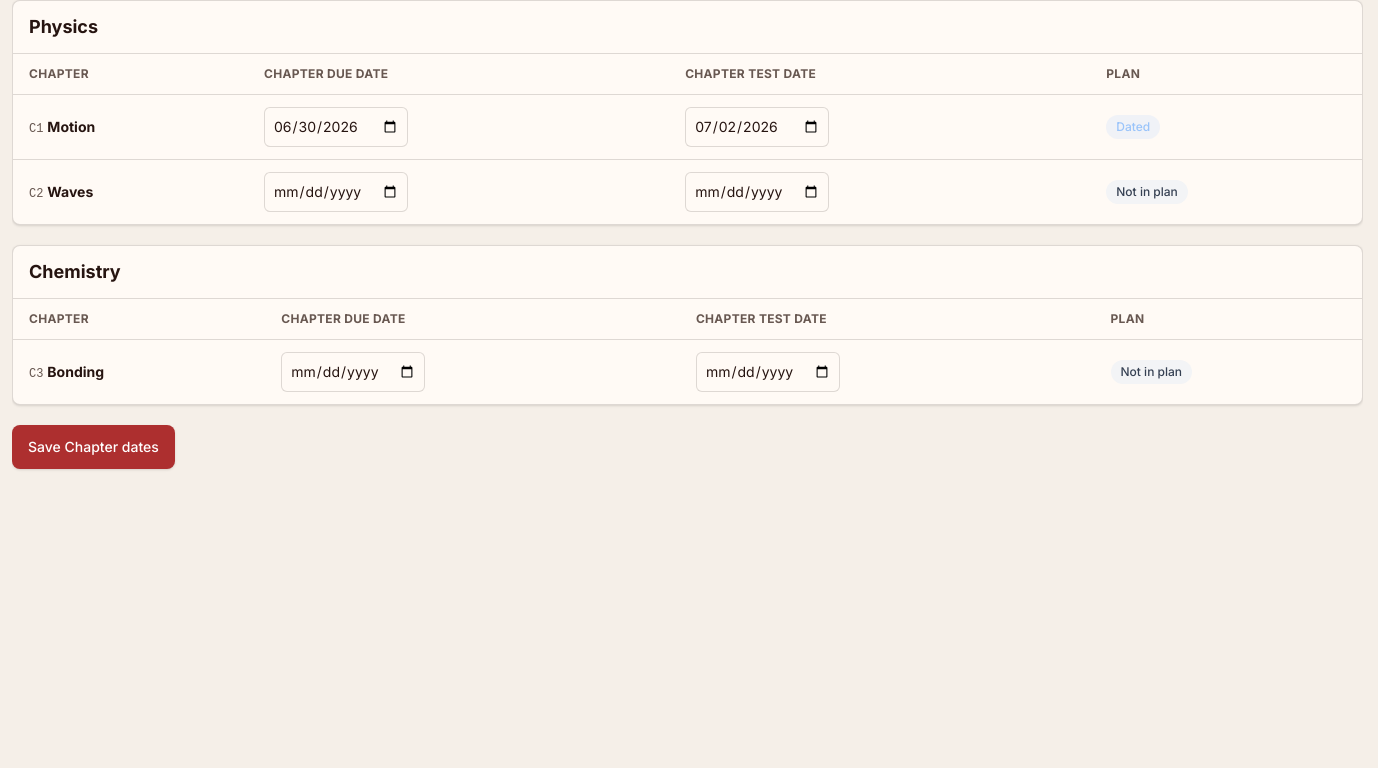
CurriculumPlanChapterDates › names each rejected Chapter and keeps the edits unsaved
Type "2026-09-01" into the date field named "Test date for Bonding" at (768,372), box top-left (696, 352), bottom-right (840, 392)
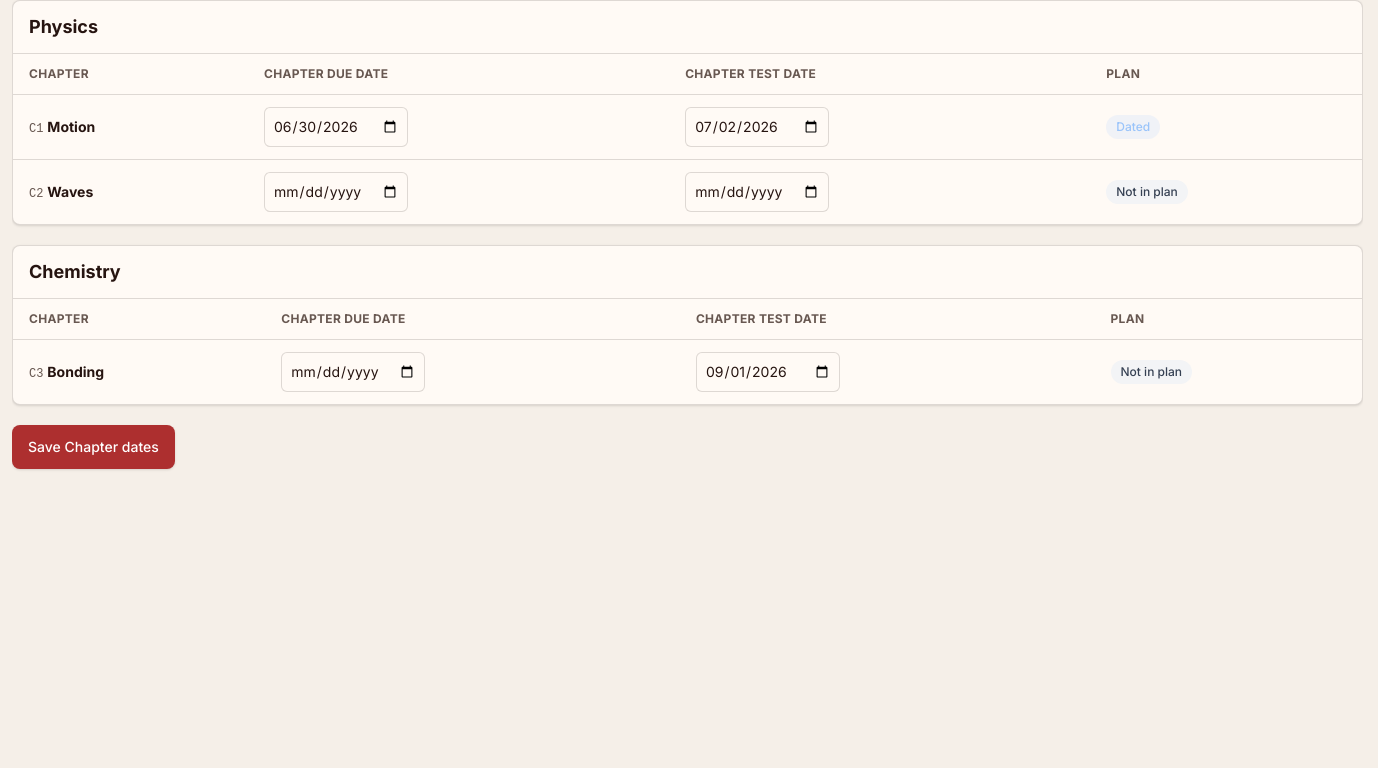
Click the button "Save Chapter dates" at (93,447), box top-left (12, 425), bottom-right (175, 469)
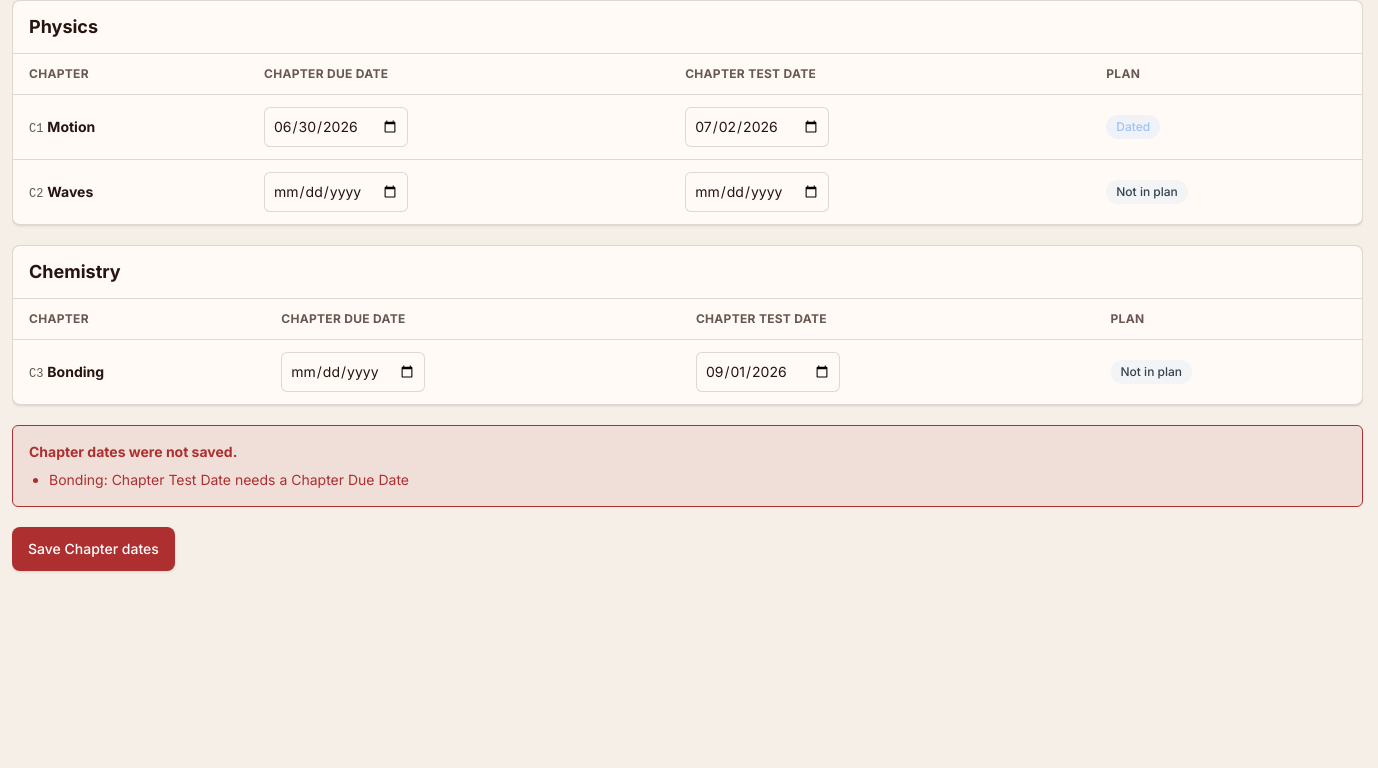
Expected: the message with test id "plan-date-errors" shows "Chapter dates were not saved.", top-left (29, 443), bottom-right (237, 460)
Expected: the message with test id "plan-date-errors" shows "Bonding: Chapter Test Date needs a Chapter Due Date", top-left (12, 425), bottom-right (1363, 507)
Click the button "Save Chapter dates" at (93,549), box top-left (12, 527), bottom-right (175, 571)
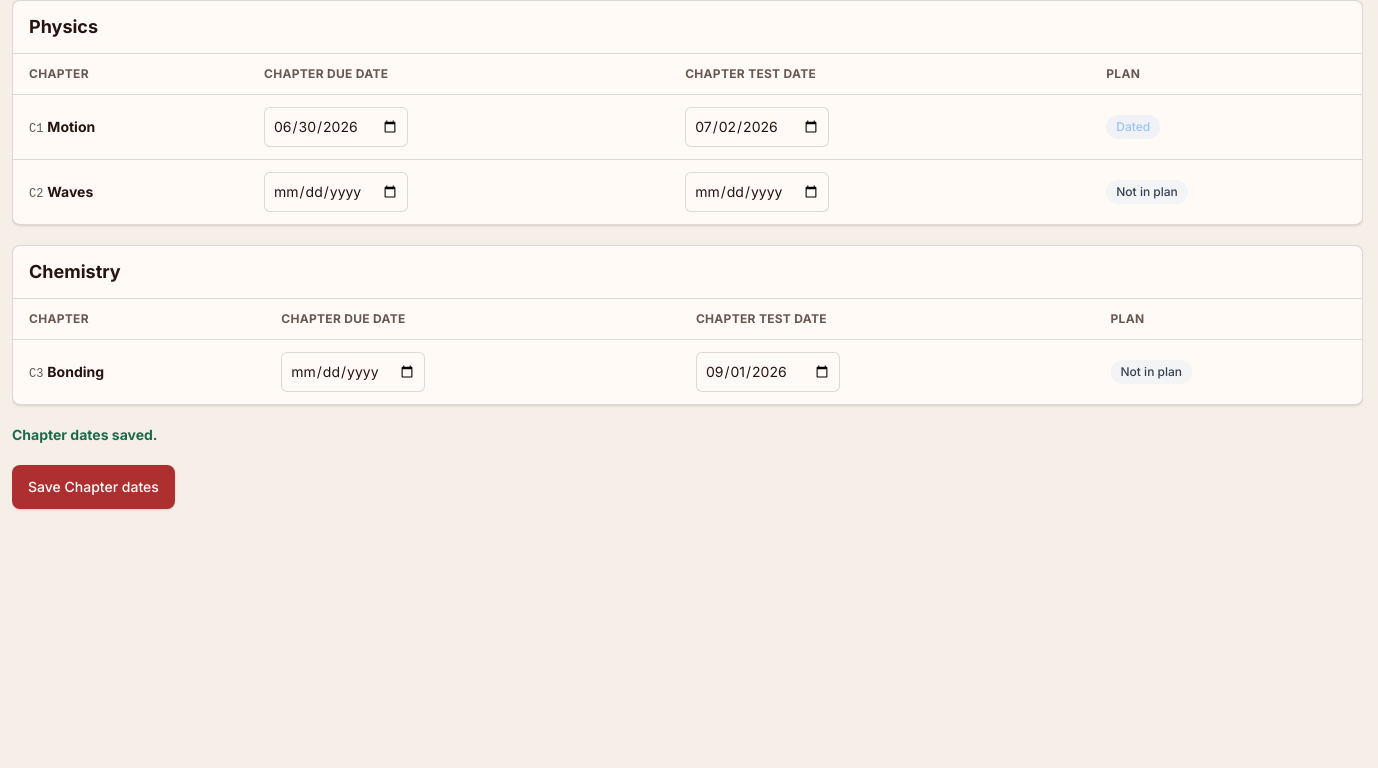
Expected: the message reads "Chapter dates saved.", top-left (12, 426), bottom-right (158, 443)
